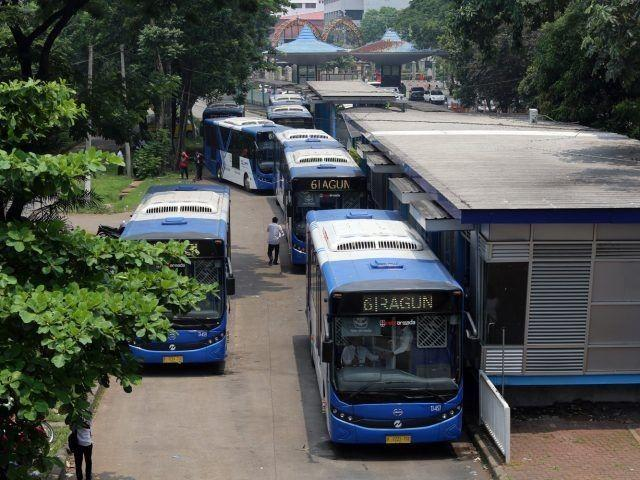mobil: (427, 86, 450, 105), (412, 84, 426, 103)
transjakarta: (303, 207, 466, 446), (126, 182, 226, 368), (284, 129, 370, 272), (204, 110, 275, 184), (269, 86, 312, 134)
